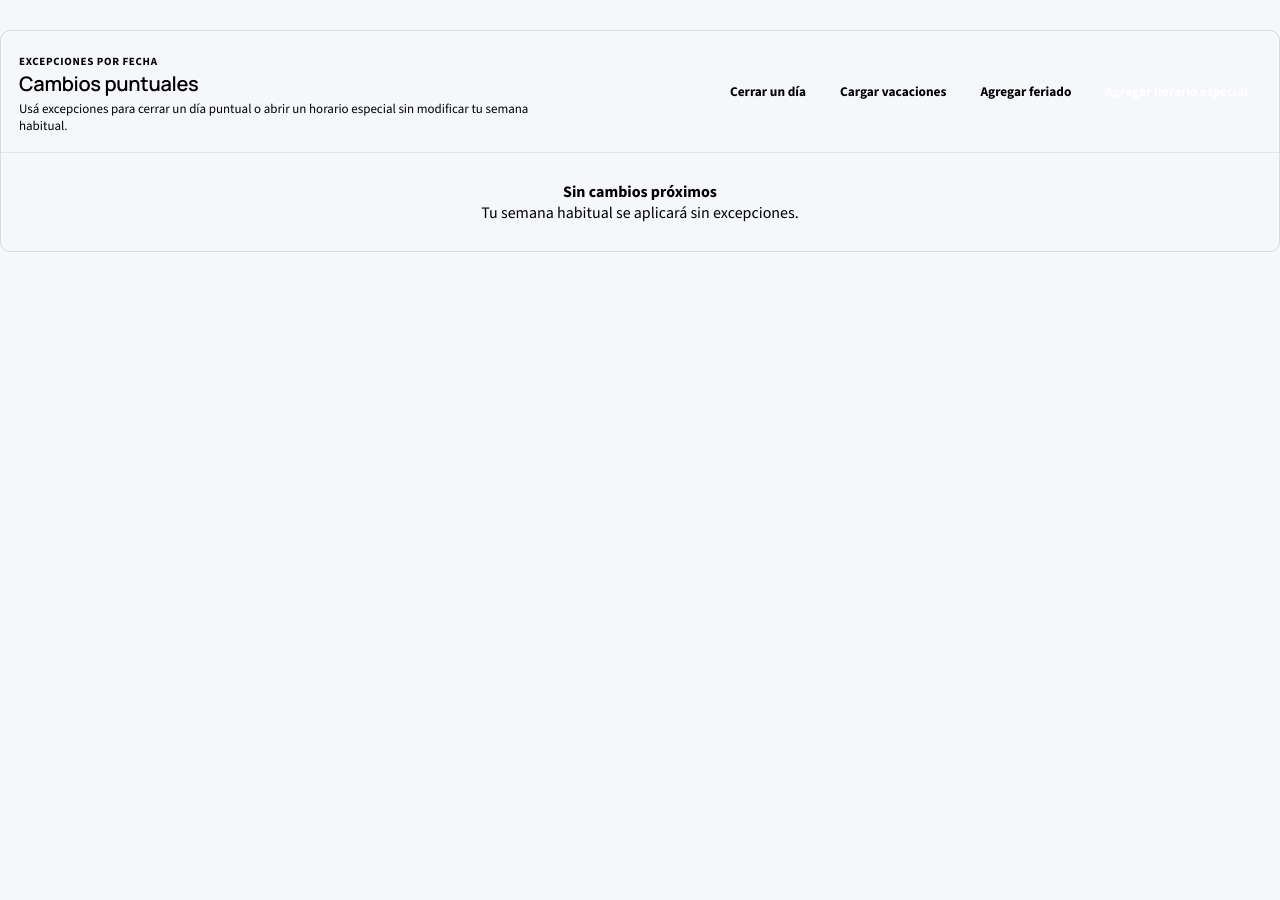
excepciones de disponibilidad › mantiene el diálogo ante error backend
The image size is (1280, 900).
Expected: the text "Sin cambios próximos" is shown, [563, 181, 717, 202]
Step 1. Click the button "Cerrar un día" → {"x": 768, "y": 92}, box [717, 72, 819, 112]
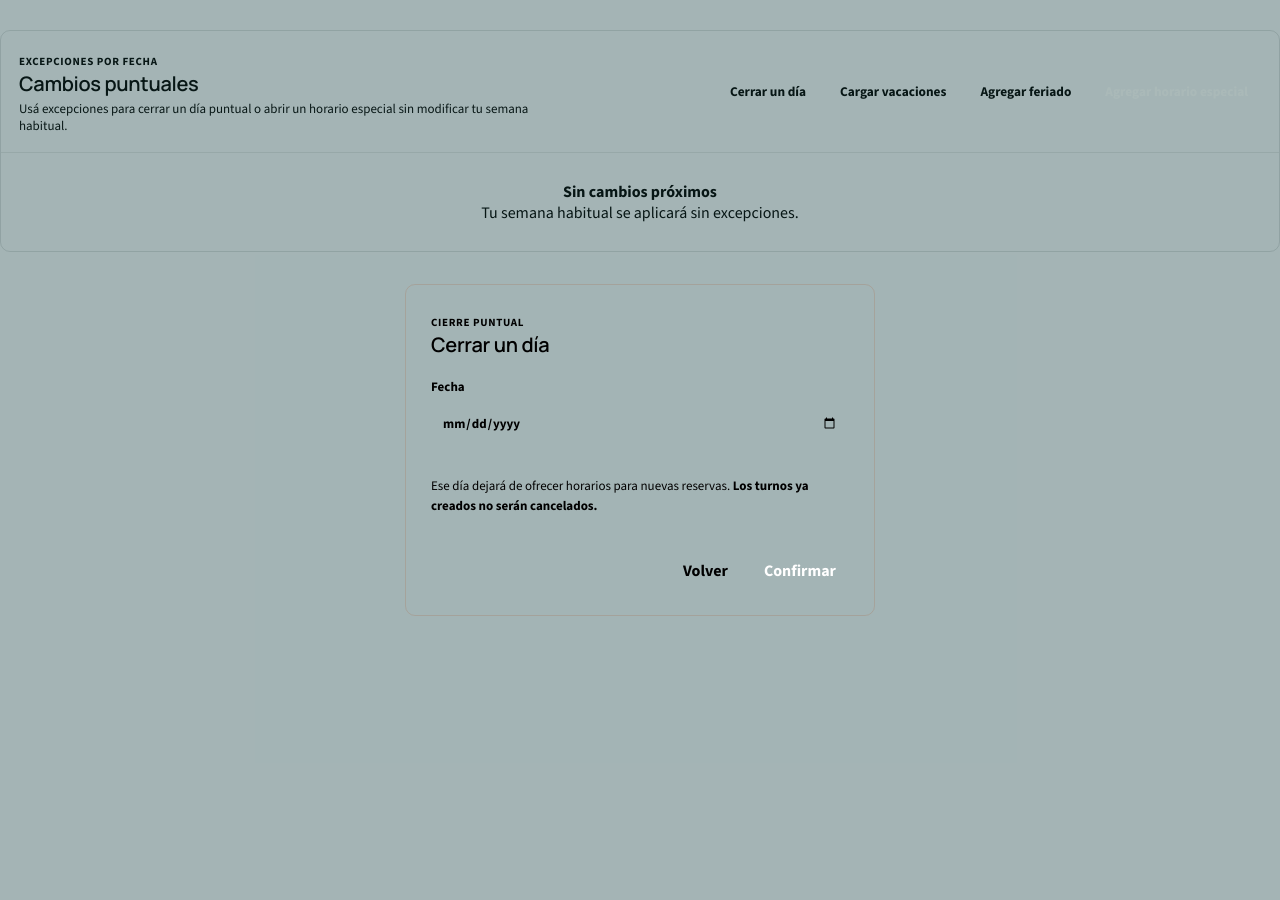
Step 2. Type "2026-08-25" into the date field labelled "Fecha" → {"x": 640, "y": 423}, box [431, 401, 849, 445]
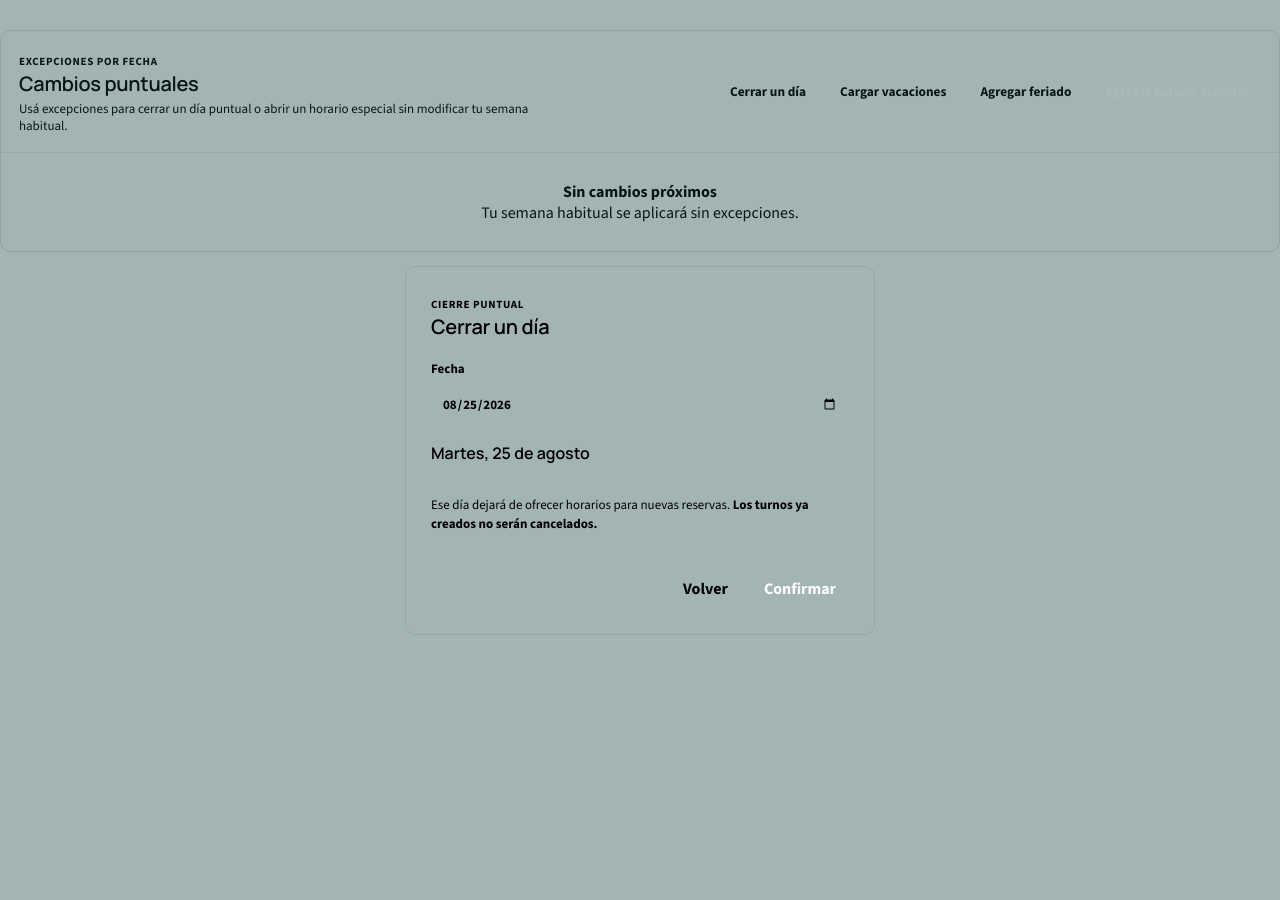
Step 3. Click the button "Confirmar" → {"x": 800, "y": 588}, box [751, 568, 849, 608]
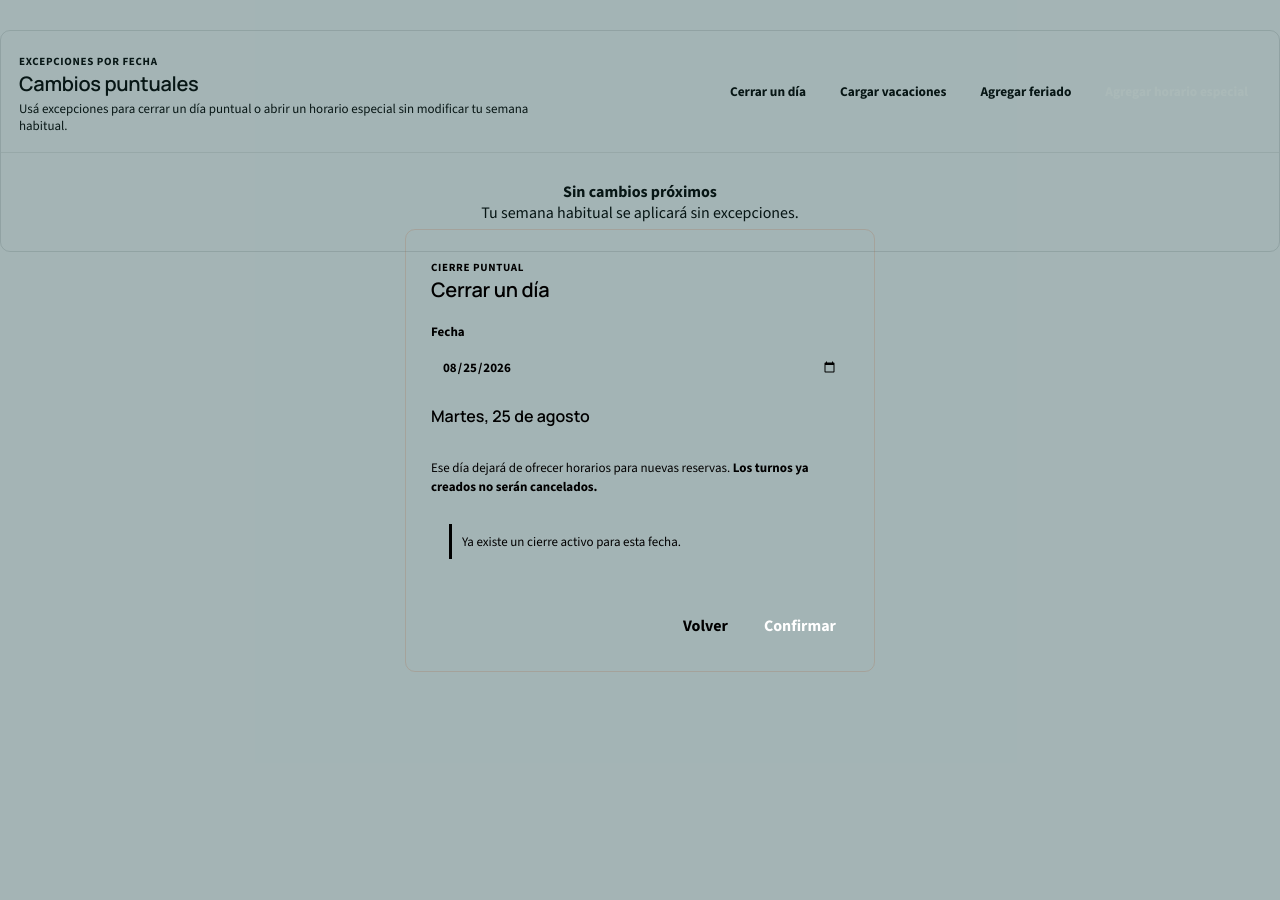
Now the dialog is shown, box [405, 228, 875, 672]
Now the message shows "Ya existe un cierre", box [462, 532, 681, 550]
